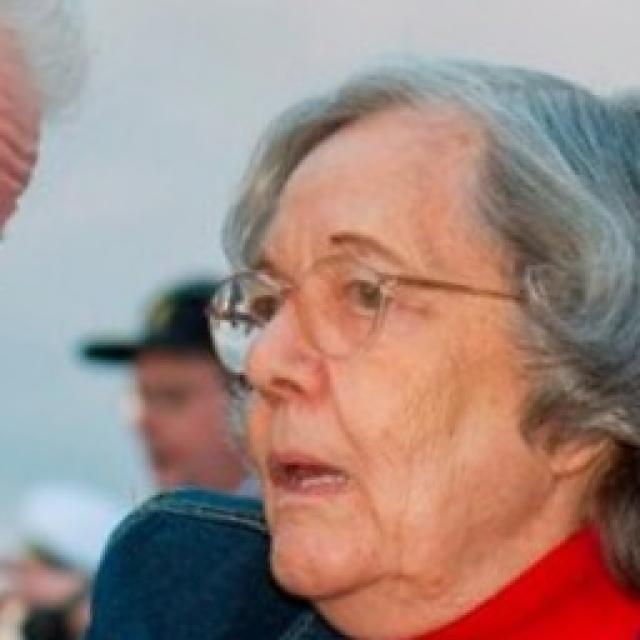glasses: (192, 264, 534, 378)
